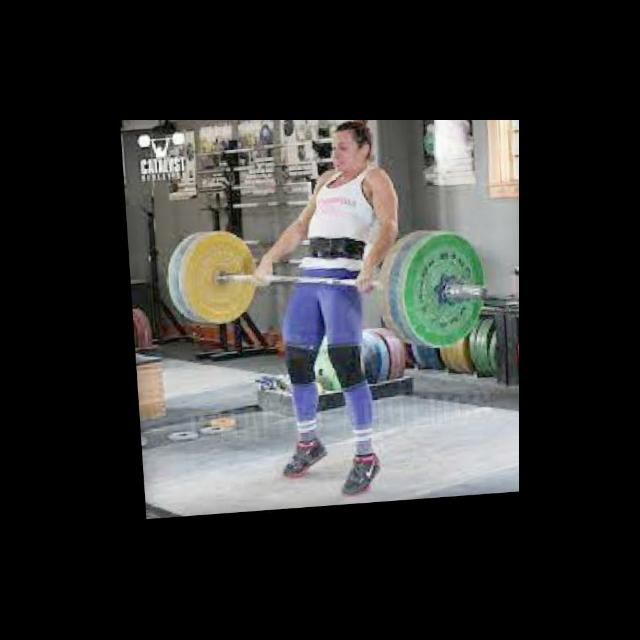barbell: (394, 236, 492, 358)
